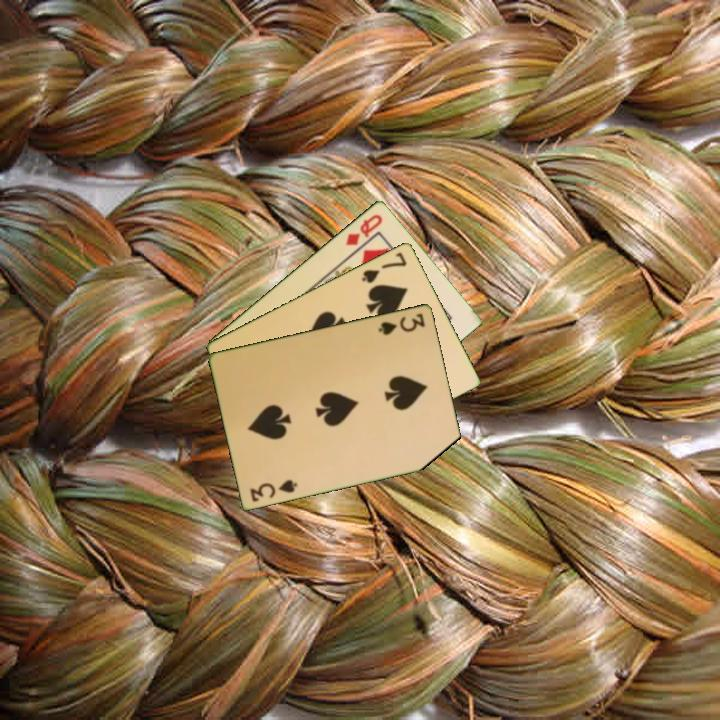3s: (375, 309, 428, 338), (246, 476, 300, 504)
7s: (358, 248, 410, 286)
Qd: (342, 210, 385, 248)
